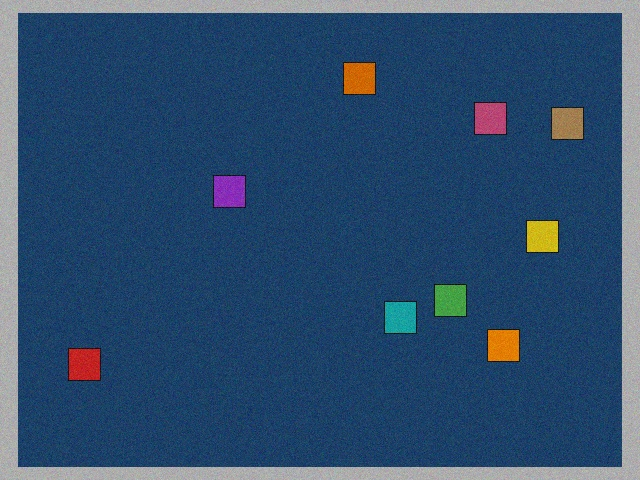block: (68, 342, 112, 380), (539, 108, 584, 145), (466, 103, 507, 140), (479, 324, 520, 361), (515, 221, 558, 253), (342, 63, 376, 103), (428, 282, 466, 316), (381, 298, 417, 333), (213, 175, 249, 209)
